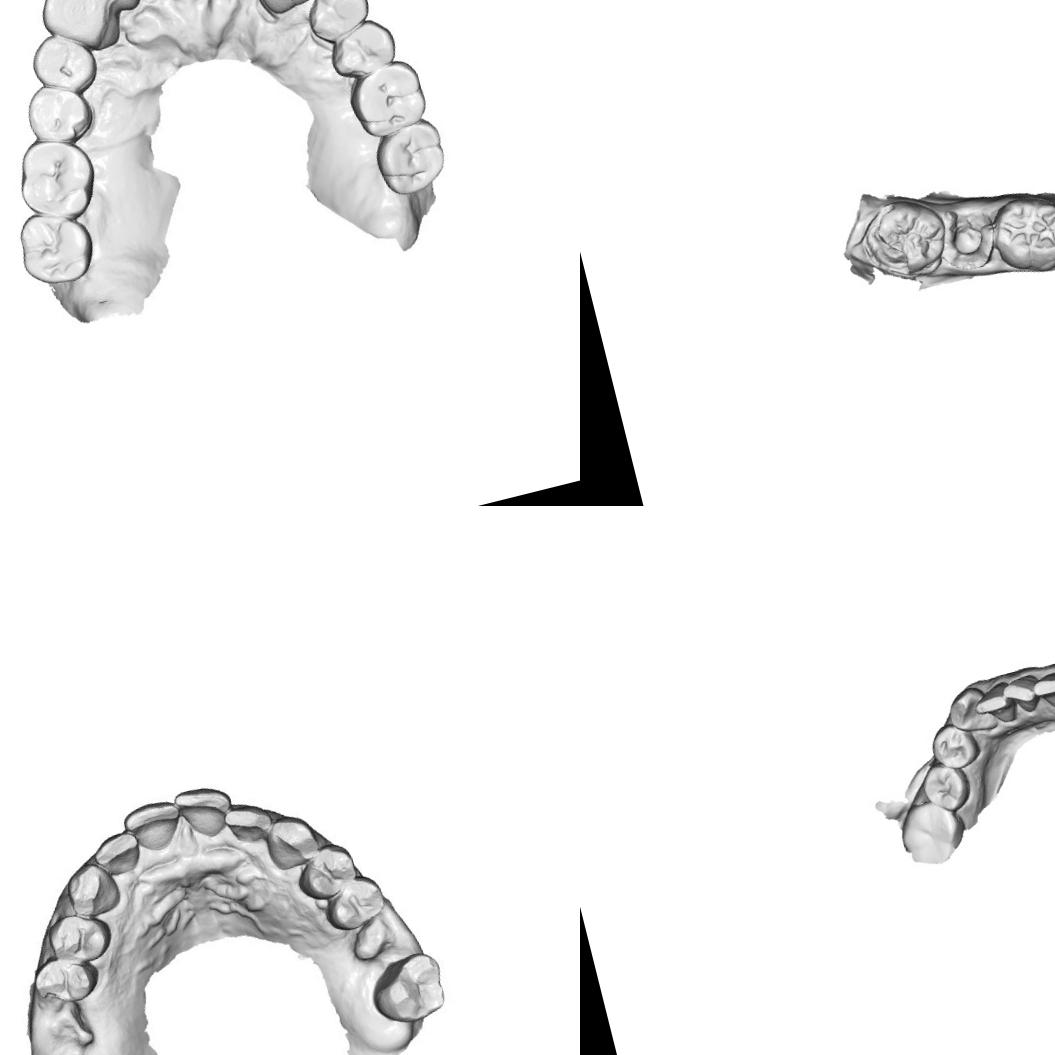canine: (34, 0, 114, 54), (57, 856, 122, 922), (941, 681, 998, 739), (265, 818, 317, 870)
incisor: (172, 780, 237, 842), (122, 798, 186, 856), (224, 798, 278, 849), (968, 679, 1017, 730), (92, 831, 144, 878), (1000, 671, 1046, 718), (1029, 668, 1055, 716)
molar: (854, 190, 956, 290), (10, 130, 102, 225), (362, 945, 452, 1036), (12, 207, 97, 292), (984, 185, 1055, 282), (345, 58, 431, 138), (892, 791, 972, 870), (370, 121, 448, 198)
premolar: (319, 10, 401, 86), (22, 81, 96, 150), (25, 32, 100, 100), (323, 872, 395, 936), (43, 904, 112, 970), (291, 840, 362, 904), (31, 950, 102, 1012), (914, 755, 977, 819), (926, 717, 983, 775), (301, 0, 373, 39)
